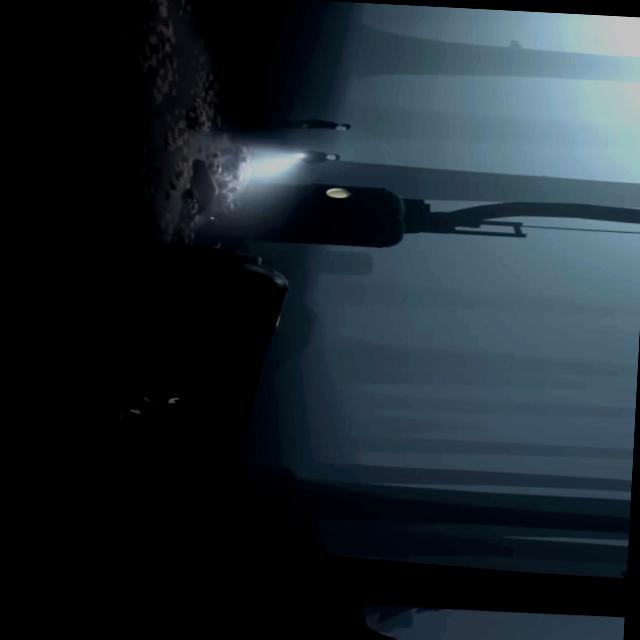boy: (115, 392, 192, 422)
